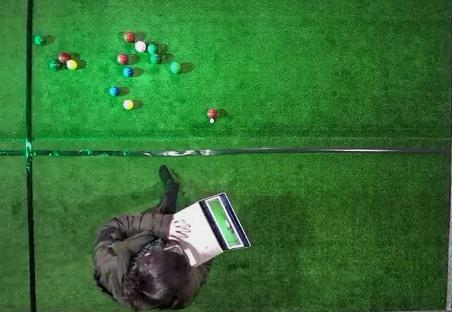blue: (109, 86, 120, 97), (123, 67, 134, 78)
green: (170, 62, 182, 74), (34, 34, 46, 45), (50, 60, 62, 71), (150, 54, 161, 64), (148, 43, 158, 54)
red: (117, 54, 129, 65), (58, 52, 70, 63), (135, 41, 146, 52), (124, 31, 134, 43), (206, 109, 217, 118)
vline: (1, 1, 38, 311), (443, 1, 451, 311)
white: (210, 118, 214, 123)
yellow: (66, 59, 78, 71), (123, 99, 134, 110)
